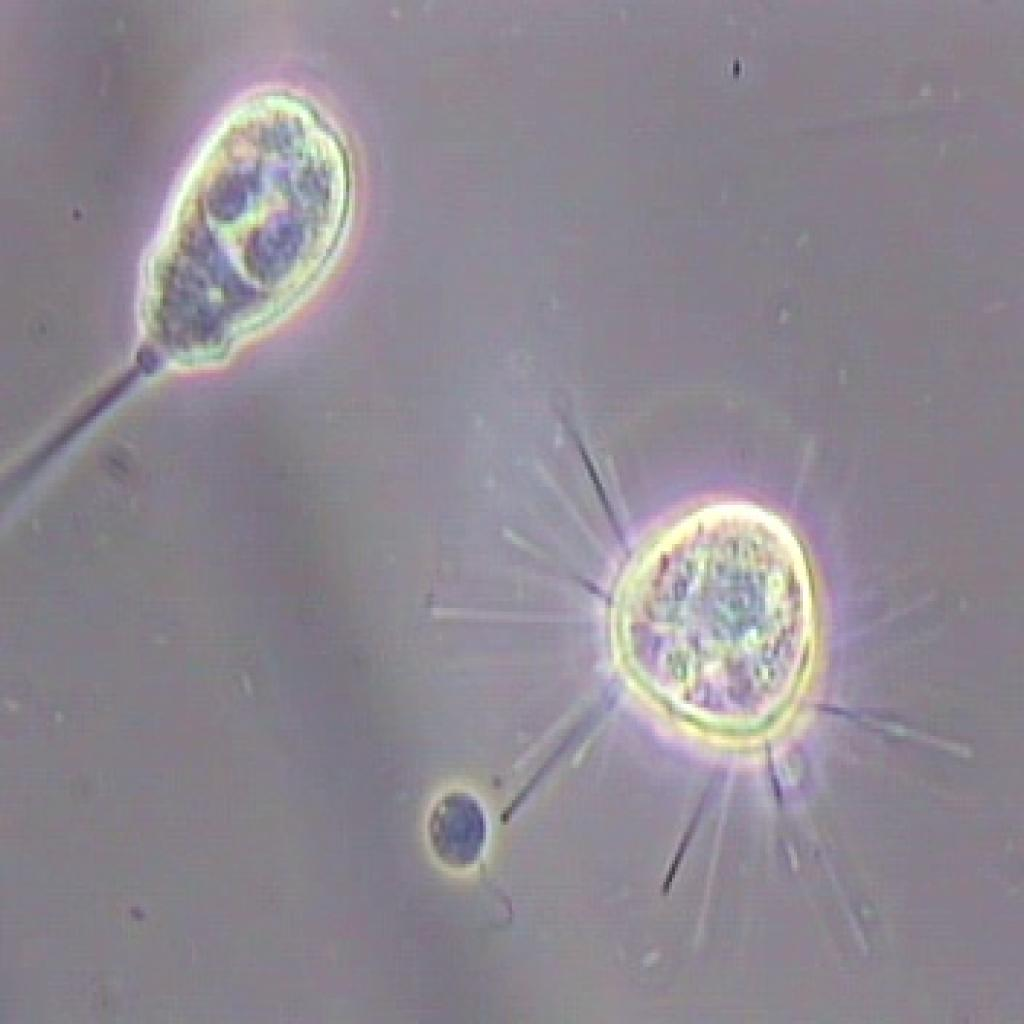Suctorida: (483, 404, 972, 948)
